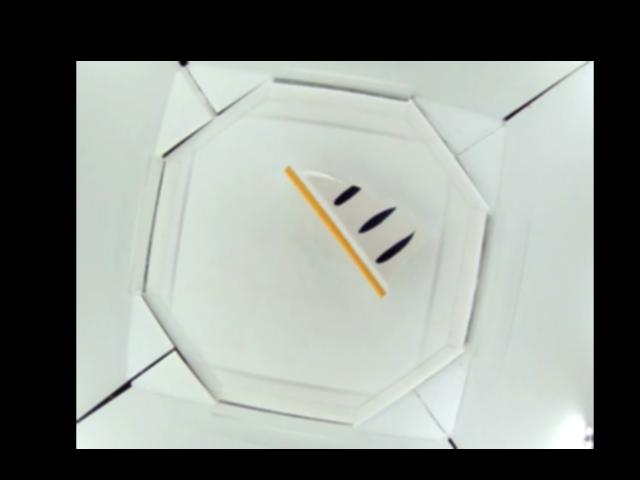China: (285, 164, 422, 299)
